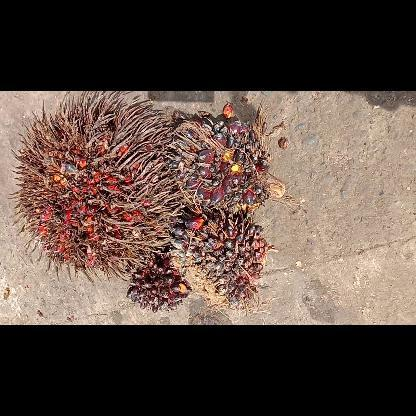TBS abnormal: (156, 108, 272, 216), (168, 204, 272, 314), (126, 249, 192, 314)
Terlalu masak: (10, 92, 186, 284)
